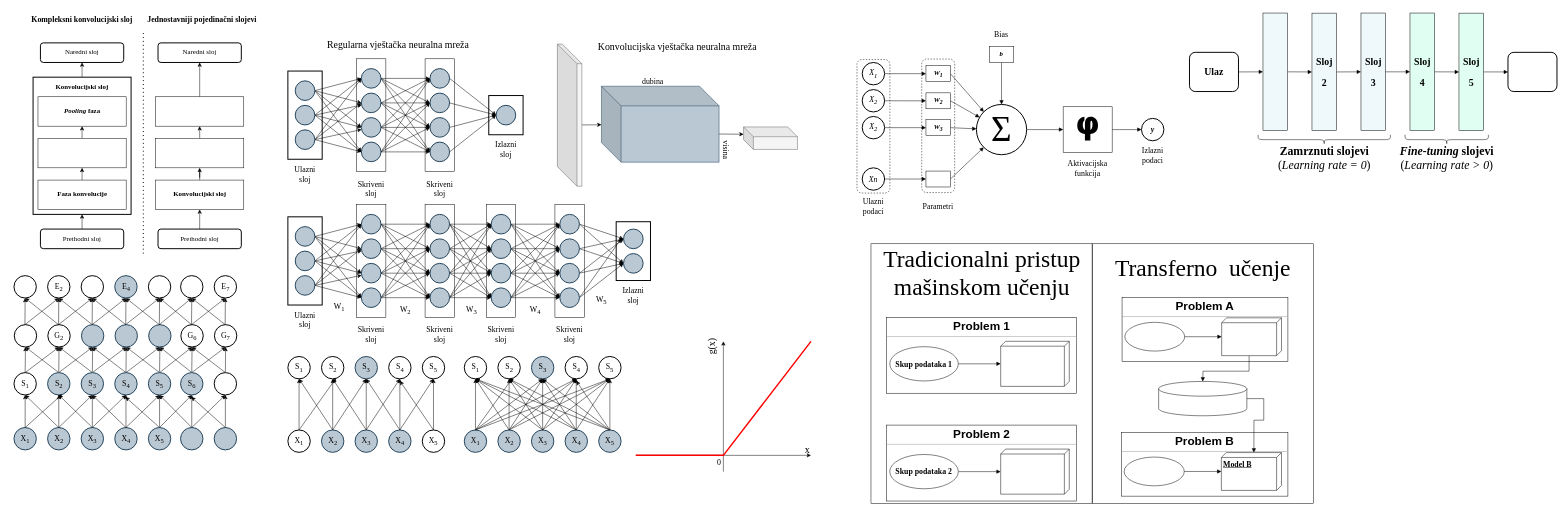
Some shapes in this 1566 by 512 pixel diagram are drawn without their labels. Here are the shapes that lost their labels. From the top down, the centre of each, then its label:
At (1274,72): "Sloj 1".
At (1532,72): "Izlaz".
At (199,111): "Pooling sloj".
At (660,124): "širina".
At (81,153): "Faza detekcije (nelinearna aktivacijska funkcija)".
At (199,153): "Detektor sloj (npr. ReLU sloj)".
At (937,179): "W n".
At (25,286): "E 1".
At (92,286): "E 3".
At (159,286): "E 5".
At (191,286): "E 6".
At (25,335): "G 1".
At (92,335): "G 3".
At (126,335): "G 4".
At (159,335): "G 5".
At (1154,336): "Skup podataka A".
At (1251,336): "Model A".
At (225,383): "S 7".
At (1034,363): "Model 1".
At (1202,398): "Znanje".
At (191,438): "X 6".
At (225,438): "X 7".
At (1034,471): "Model 2".
At (1154,471): "Skup podataka B".
